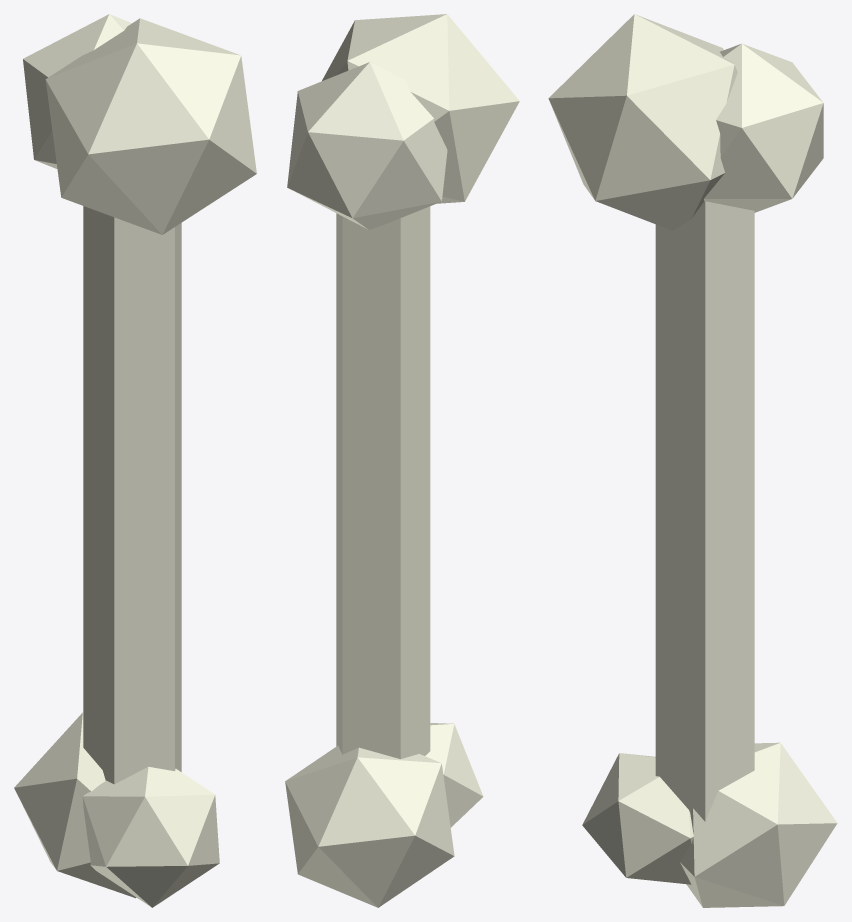
The model's file is Bone.FBX.
3 renders of one model, left to right at view 1: azimuth 30°, elevation 25°; view 2: azimuth 150°, elevation 25°; view 3: azimuth 270°, elevation 25°, orthographic. The views are drawn at different scales.
Visible parts, largest first — view 1: Cylinder001; view 2: Cylinder001; view 3: Cylinder001.
Boxes of the visible parts, x1,y1,x2,y2 form: Cylinder001: (14, 14, 256, 907); Cylinder001: (285, 14, 519, 907); Cylinder001: (548, 14, 837, 907).
Size of the model in its own units: 4.13 by 19.72 by 5.89.
